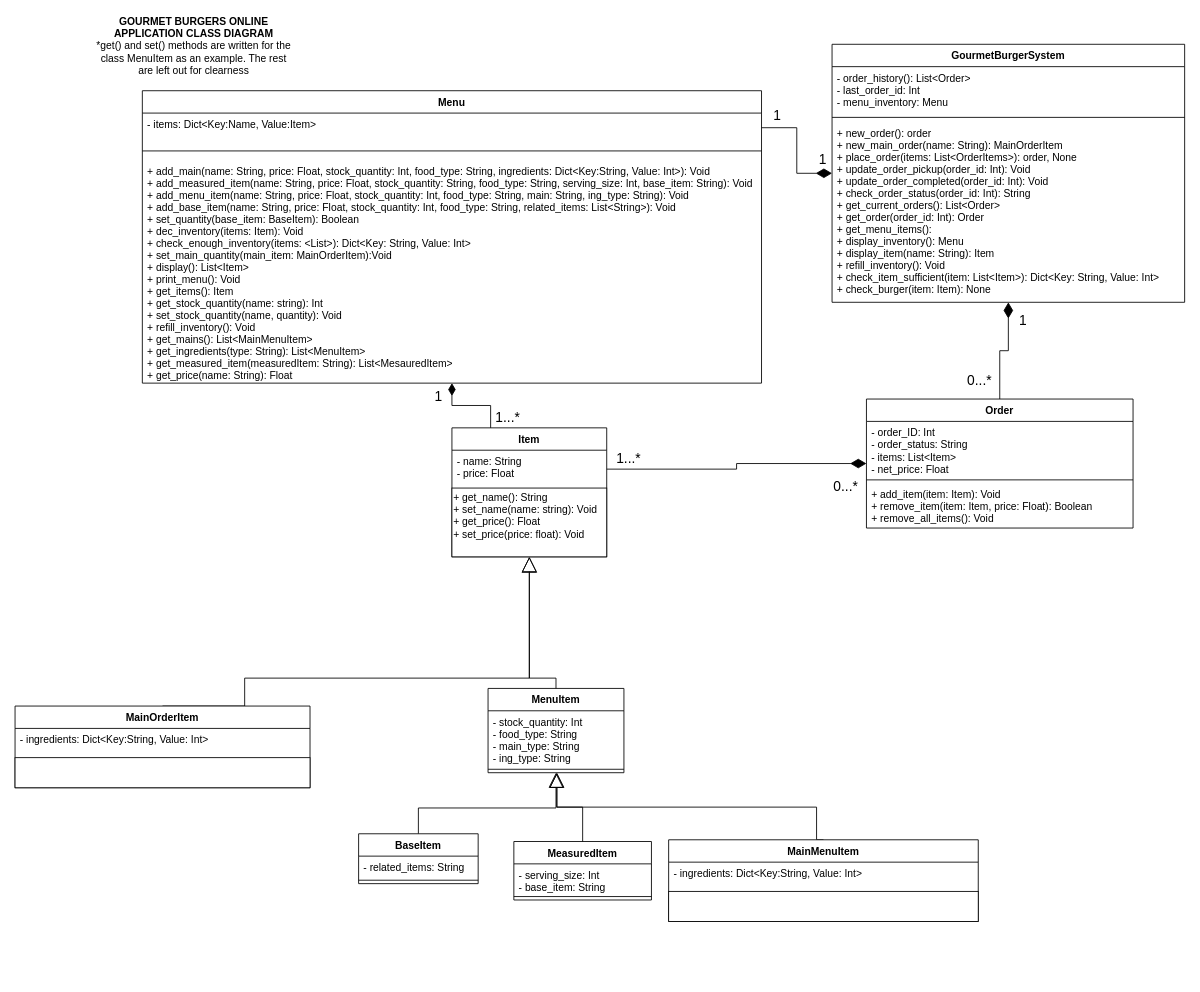
This 1200x992 diagram has some shape labels left out. The centre of each missing label's shape, as x and y in pixels:
"+ add_ingredient(ingredient: String, quantity: Int, price: Float): Void" belongs at point (823, 906).
"+ add_ingredient(name: String, quantity: Int, price: Float): Void" belongs at point (162, 772).
